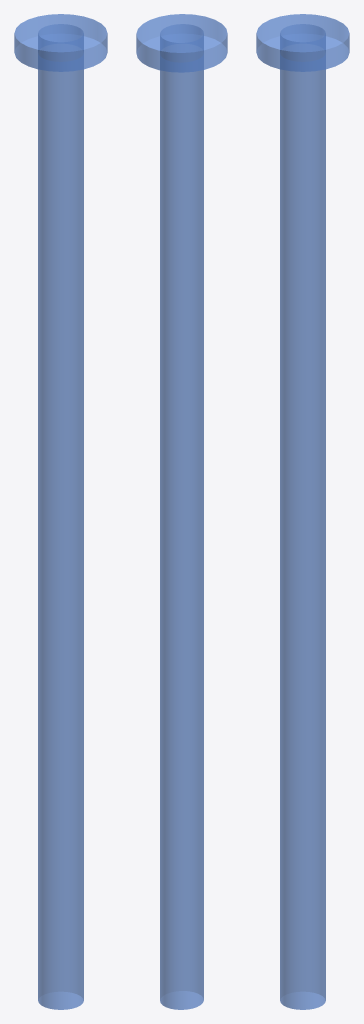
3 views of the same model, side by side, from view 1: azimuth 90°, elevation 25°; view 2: azimuth 150°, elevation 25°; view 3: azimuth 270°, elevation 25° (orthographic).
Parts seen in each view (by area): view 1: root; view 2: root; view 3: root.
Part boxes in pixels (box(x1,y1,x2,y2)): root: box(14, 14, 107, 1009); root: box(136, 14, 227, 1009); root: box(256, 14, 349, 1009).
Size of the model in its own units: 0.2996 by 3.53 by 0.3077.
